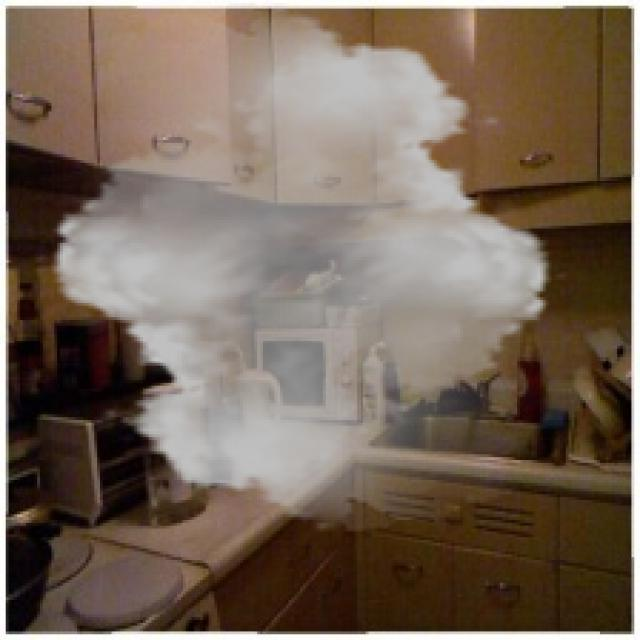Smoke: (31, 2, 572, 532)
